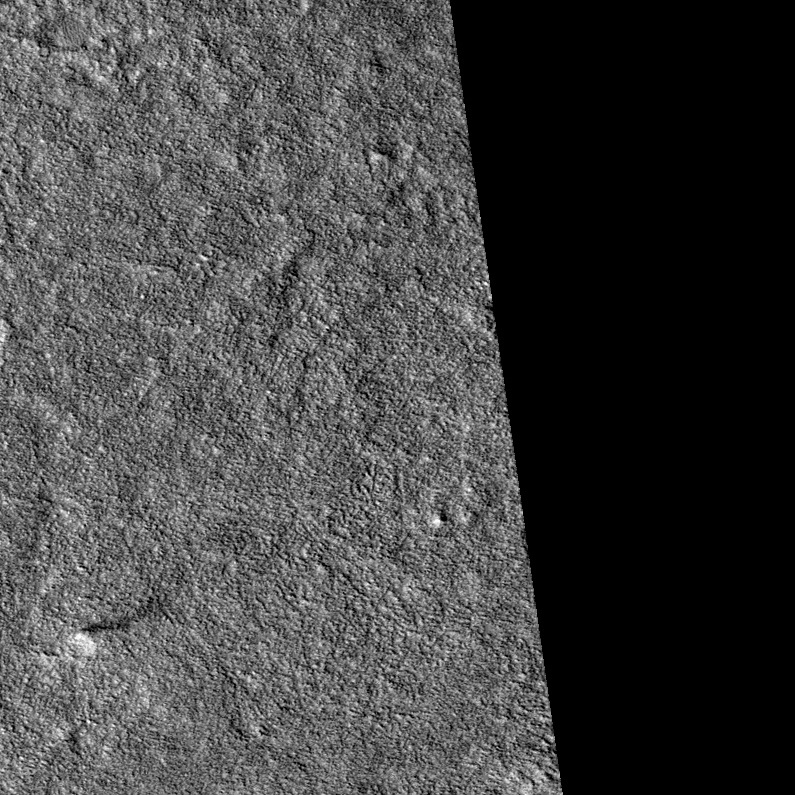dust_devil: (70, 598, 165, 656)
